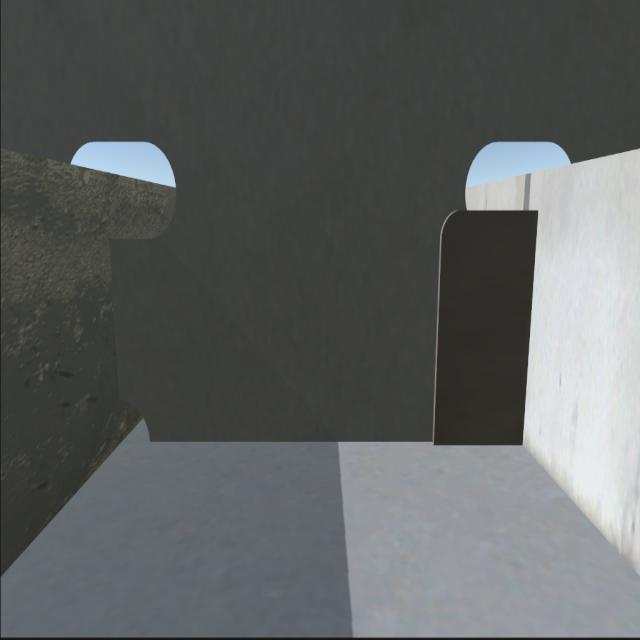fillet_hole: (121, 400, 151, 442)
fillet_yong_jeop_jang: (155, 437, 524, 448)
longi_yong_jeop_jang: (528, 215, 540, 443), (112, 246, 125, 390)
plate_CP05: (435, 211, 531, 441)
